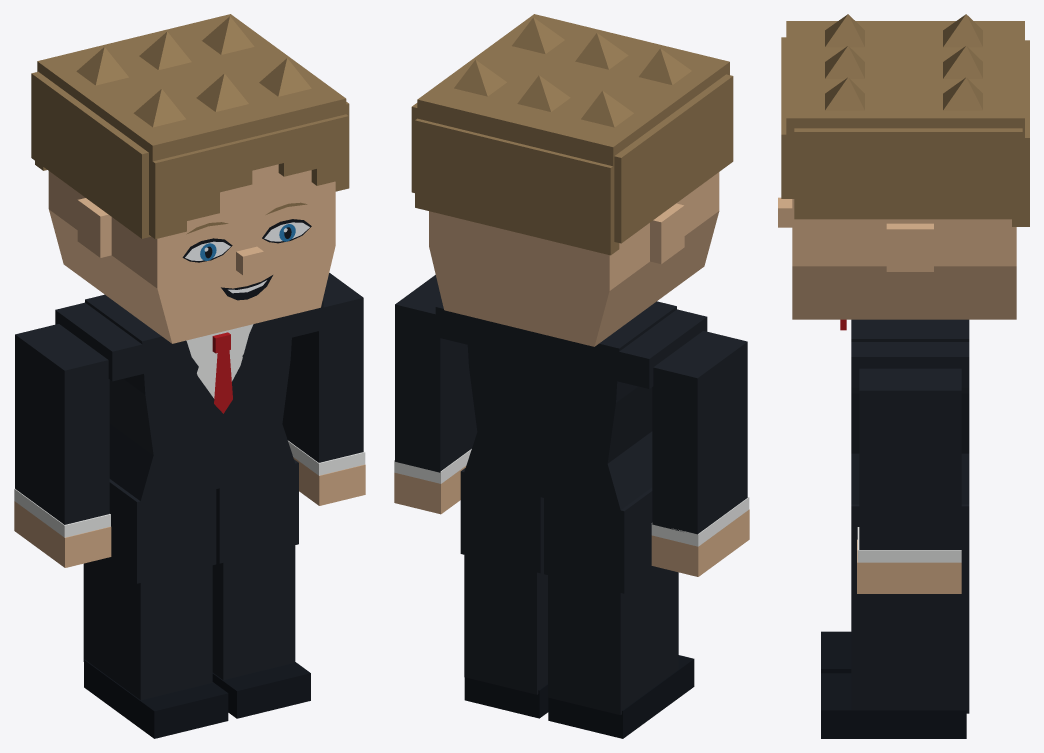
Rendered from female_spiky.glb.
The picture shows the model from 3 angles, left to right: view 1: azimuth 30°, elevation 25°; view 2: azimuth 150°, elevation 25°; view 3: azimuth 270°, elevation 25°; orthographic projection. The views are drawn at different scales.
Visible parts, largest first — view 1: char_hair_visual, char_torso_visual, char_head_visual, char_leg_negx_visual, char_arm_negx_visual, char_leg_posx_visual, char_arm_posx_visual, char_hand_negx_visual, char_hand_posx_visual, char_eye_negx_visual, char_eye_posx_visual; view 2: char_hair_visual, char_torso_visual, char_head_visual, char_leg_negx_visual, char_arm_negx_visual, char_arm_posx_visual, char_leg_posx_visual, char_hand_negx_visual, char_hand_posx_visual; view 3: char_hair_visual, char_head_visual, char_arm_posx_visual, char_leg_posx_visual, char_torso_visual, char_hand_posx_visual, char_leg_negx_visual.
Boxes of the visible parts, x1,y1,x2,y2 form: char_hair_visual: (31,14,349,239); char_torso_visual: (55,294,323,583); char_head_visual: (48,164,335,343); char_leg_negx_visual: (83,559,228,738); char_arm_negx_visual: (14,324,110,537); char_leg_posx_visual: (212,540,310,718); char_arm_posx_visual: (282,273,365,475); char_hand_negx_visual: (14,501,111,567); char_hand_posx_visual: (293,457,365,505); char_eye_negx_visual: (182,238,232,262); char_eye_posx_visual: (262,219,311,243); char_hair_visual: (411,14,733,255); char_torso_visual: (435,301,707,593); char_head_visual: (429,172,719,346); char_leg_negx_visual: (548,568,694,738); char_arm_negx_visual: (651,331,749,546); char_arm_posx_visual: (394,275,477,483); char_leg_posx_visual: (464,549,548,718); char_hand_negx_visual: (651,509,749,576); char_hand_posx_visual: (394,466,465,514); char_hair_visual: (781,14,1029,226); char_head_visual: (778,197,1016,319); char_arm_posx_visual: (857,368,961,562); char_leg_posx_visual: (821,590,969,738); char_torso_visual: (840,319,969,590); char_hand_posx_visual: (857,539,961,593); char_leg_negx_visual: (821,631,851,673).
Bounding box in the file's own units: 0.91 × 1.84 × 0.6395.
